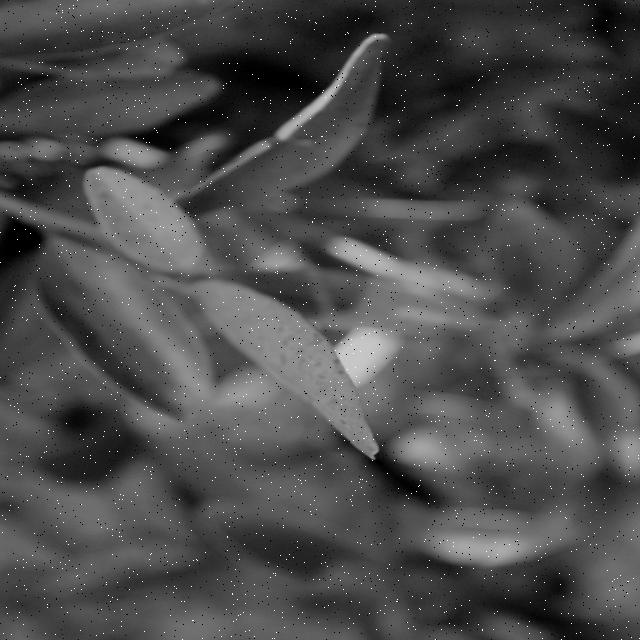melanose: (198, 283, 380, 454), (84, 170, 206, 270)
